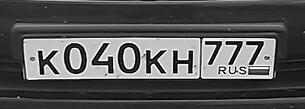license-plateSW: (21, 37, 283, 80)
